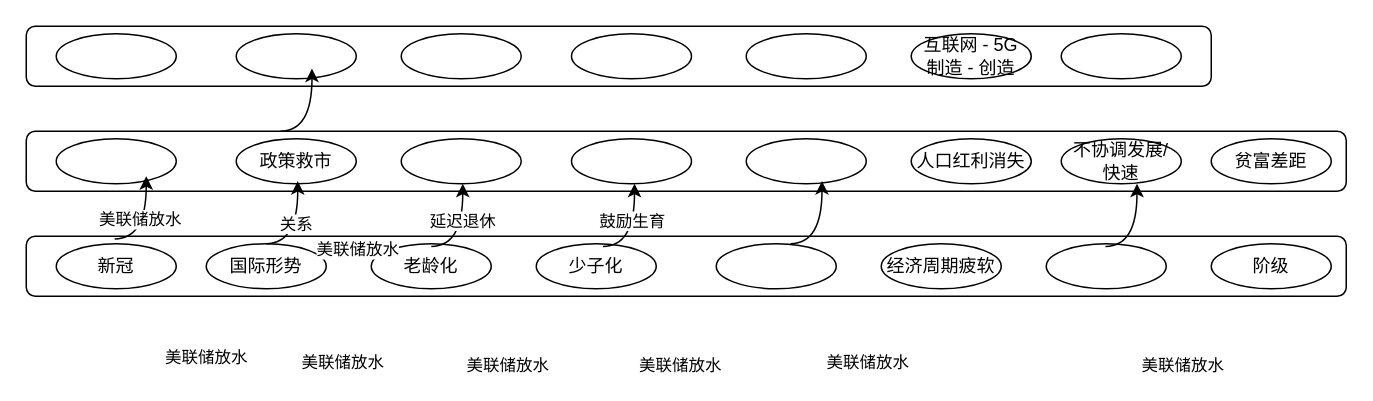
The diagram is 1373 pixels wide and 401 high, and some of its shapes have lost their labels. Each missing label, with the box of its shape:
18年后生产力: (570, 137, 692, 184)
不婚化: (715, 242, 836, 289)
产能过剩: (1045, 242, 1166, 289)
医药: (400, 137, 521, 184)
大宗商品: (55, 137, 176, 184)
碳排放 - 新能源: (235, 32, 356, 79)
